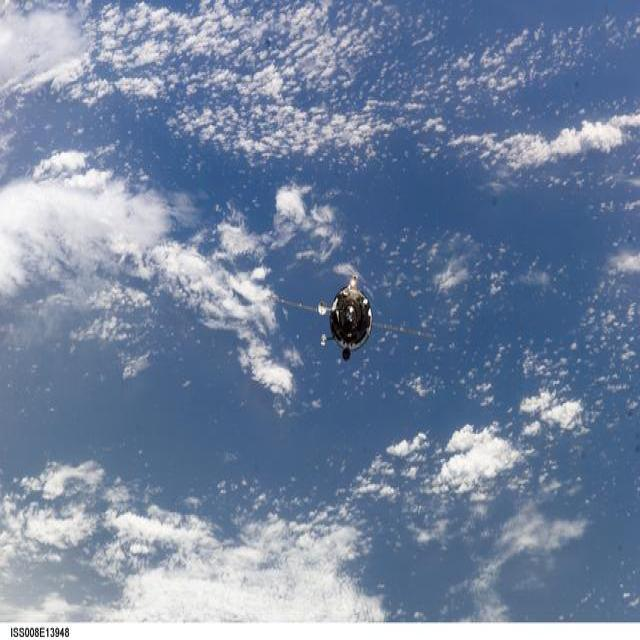medium_debris: (286, 276, 372, 360)
